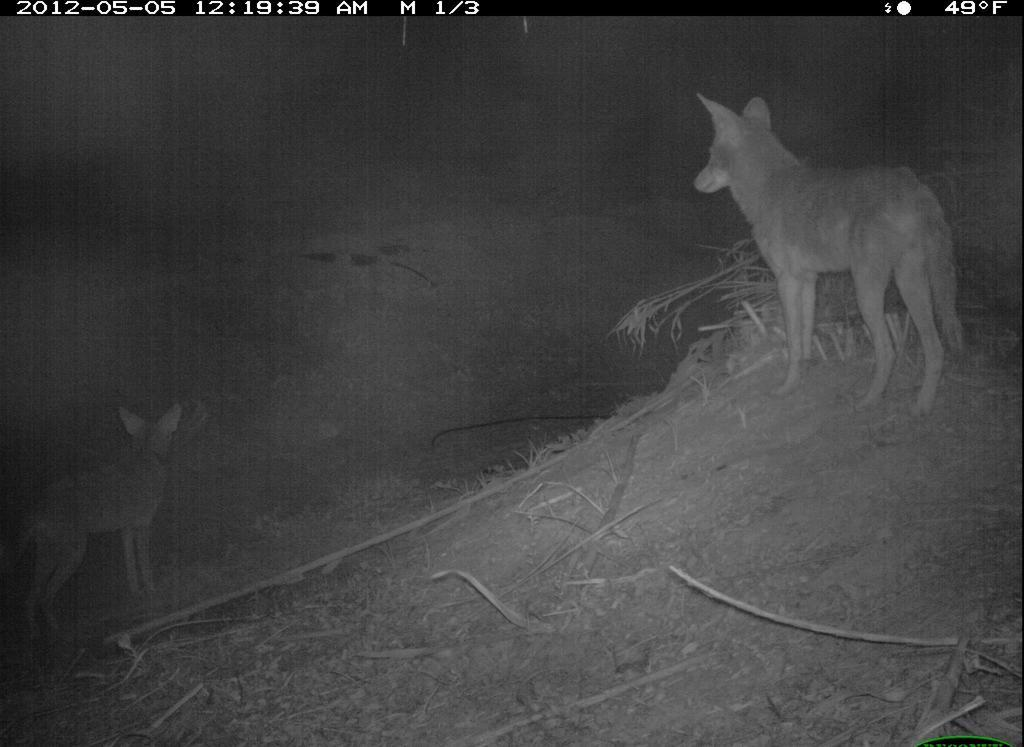coyote: (681, 77, 977, 424)
